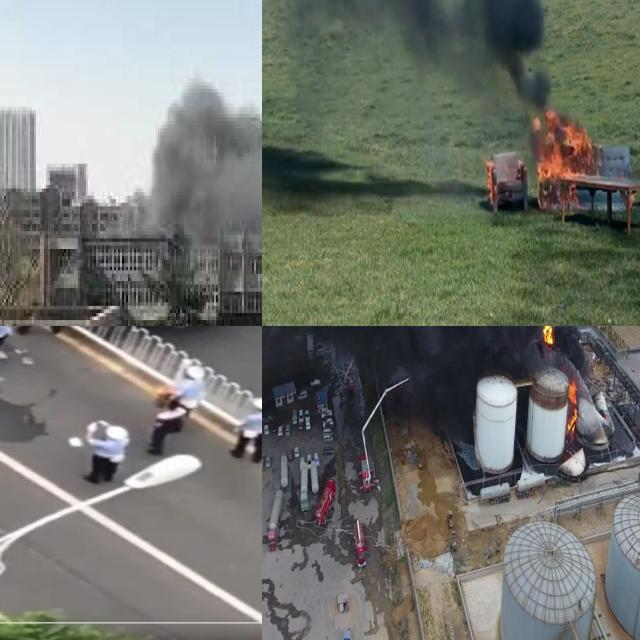fire: (532, 109, 595, 212), (566, 382, 578, 434), (485, 158, 497, 208), (541, 326, 553, 346)
smoke: (128, 0, 262, 256), (272, 0, 551, 121), (262, 326, 583, 430)
